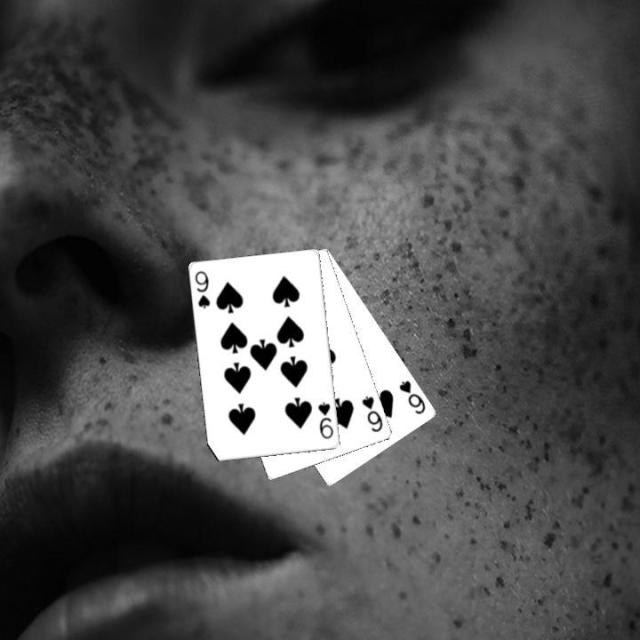6S: (396, 377, 428, 416), (358, 392, 385, 434)
9S: (191, 268, 213, 310), (315, 398, 335, 441)
